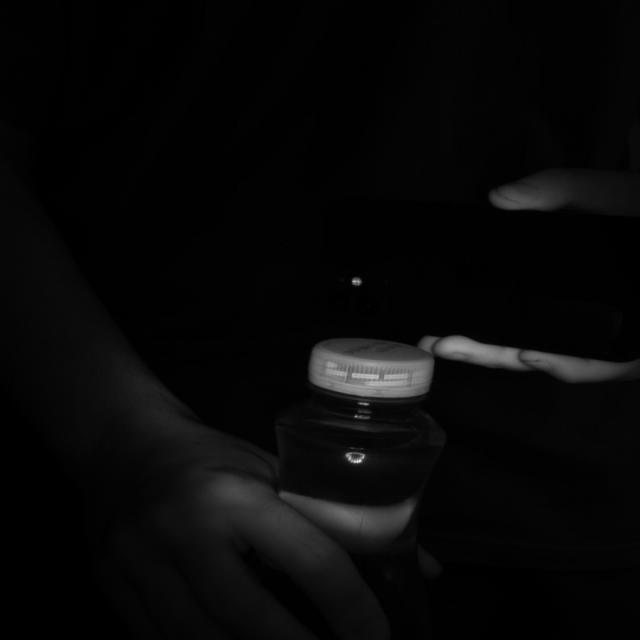Good: (310, 338, 436, 401)
